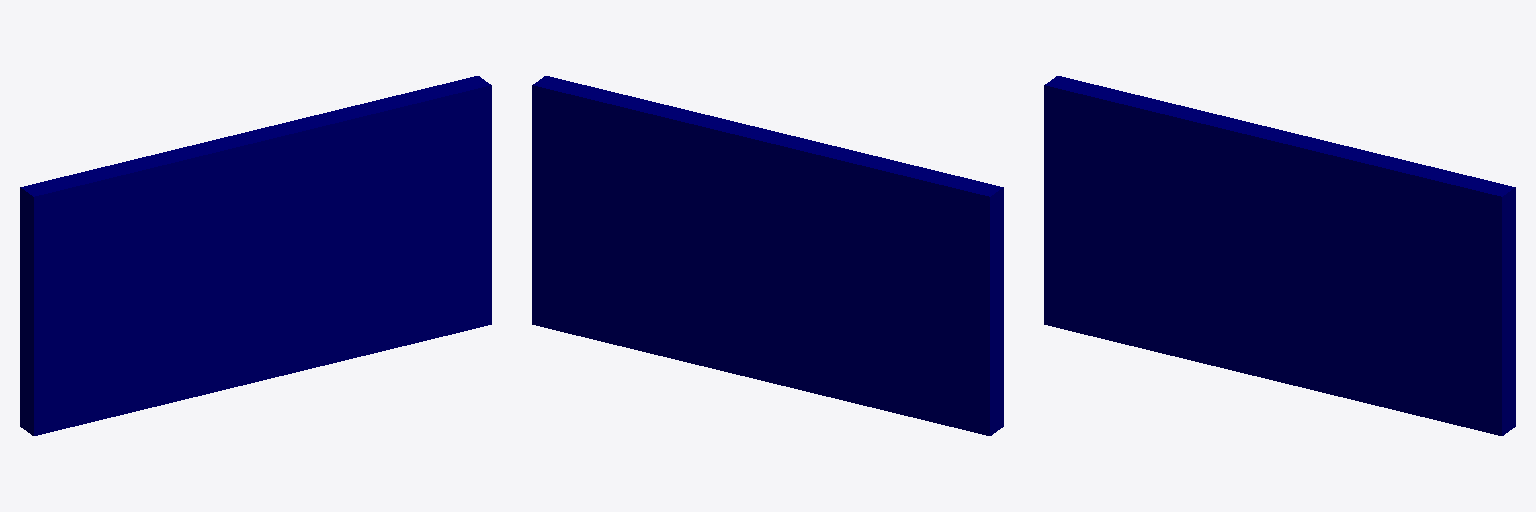
The robot description file, URDF, robot "left_wall":
<?xml version="1.0" ?>
<robot name="left_wall" xmlns:xacro="http://www.ros.org/wiki/xacro">
    <link name="wall_link">
        <inertial>
            <origin rpy="0 0 0" xyz="0 0 0"/>
            <mass value=".1"/>
            <inertia ixx="0" ixy="0" ixz="0" iyy="0" iyz="0" izz="0"/>
        </inertial>
        <visual>
            <origin rpy="0 0 0" xyz="0.5 0 0.25"/>
            <geometry>
                <box size="1.0 0.05 0.5"/>
            </geometry>
            <material name='blue'>
                <color rgba="0.0 0.0 0.5 1.0"/>
            </material>
        </visual>
    </link>
</robot>

--- Render facts (derived) ---
The picture shows the robot from 3 angles, left to right: view 1: azimuth 30°, elevation 25°; view 2: azimuth 150°, elevation 25°; view 3: azimuth 330°, elevation 25°; orthographic projection.
Model left_wall with 1 links and 0 joints (none), rooted at wall_link, posed all joints at 0.
Visible links, largest first — view 1: wall_link; view 2: wall_link; view 3: wall_link.
Boxes of the visible links, <box> form: wall_link: <box>20,76,491,435</box>; wall_link: <box>532,76,1003,435</box>; wall_link: <box>1044,76,1515,435</box>.
Size in the robot's own frame: 1 by 0.05 by 0.5 metres.
Geometry: primitives only (box / cylinder / sphere), no mesh files.